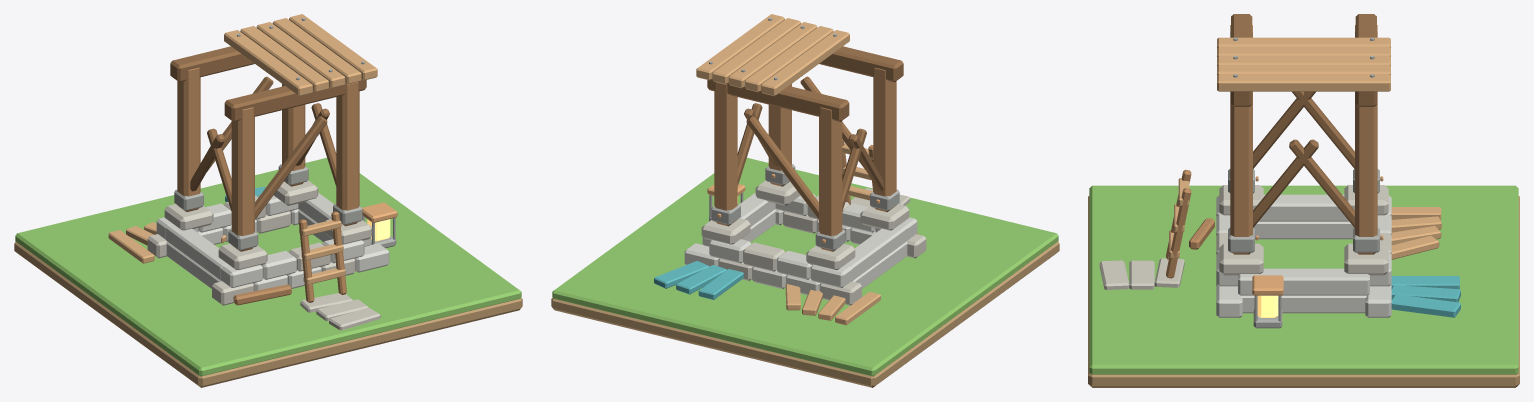
Rendered from tower_l01_damaged.glb.
3 views of the same model, side by side, from view 1: azimuth 30°, elevation 25°; view 2: azimuth 150°, elevation 25°; view 3: azimuth 270°, elevation 25° (orthographic). The views are drawn at different scales.
Visible parts, largest first — view 1: tower_l01_grass_tile, tower_l01_earth_tile, upright_-0.58_-0.52, upright_0.58_-0.52, upright_-0.58_0.52, deck_bearer_-0.52, deck_board_4, deck_bearer_0.52, plinth_return_1_-0.73, deck_board_7, deck_board_5, deck_board_6 (+30 smaller); view 2: tower_l01_grass_tile, tower_l01_earth_tile, upright_0.58_0.52, upright_-0.58_0.52, upright_-0.58_-0.52, deck_bearer_0.52, deck_board_4, deck_bearer_-0.52, plinth_return_1_-0.73, deck_board_7, deck_board_5, deck_board_6 (+27 smaller); view 3: tower_l01_grass_tile, tower_l01_earth_tile, deck_board_8, upright_0.58_0.52, upright_0.58_-0.52, plinth_return_1_0.73, plinth_return_1_-0.73, plinth_return_0_0.73, plinth_return_0_-0.73, deck_board_5, deck_board_6, deck_board_4 (+29 smaller).
Boxes of the visible parts, x1=… form: tower_l01_grass_tile: x1=15, y1=157, x2=521, y2=376; tower_l01_earth_tile: x1=14, y1=241, x2=522, y2=387; upright_-0.58_-0.52: x1=231, y1=107, x2=254, y2=251; upright_0.58_-0.52: x1=336, y1=82, x2=359, y2=226; upright_-0.58_0.52: x1=177, y1=67, x2=200, y2=211; deck_bearer_-0.52: x1=224, y1=79, x2=366, y2=121; deck_board_4: x1=224, y1=30, x2=312, y2=96; deck_bearer_0.52: x1=170, y1=46, x2=254, y2=82; plinth_return_1_-0.73: x1=165, y1=224, x2=228, y2=280; deck_board_7: x1=272, y1=18, x2=361, y2=84; deck_board_5: x1=240, y1=26, x2=328, y2=92; deck_board_6: x1=256, y1=22, x2=345, y2=88; tower_l01_grass_tile: x1=552, y1=157, x2=1058, y2=376; tower_l01_earth_tile: x1=551, y1=241, x2=1059, y2=387; upright_0.58_0.52: x1=714, y1=82, x2=737, y2=226; upright_-0.58_0.52: x1=819, y1=107, x2=842, y2=251; upright_-0.58_-0.52: x1=873, y1=67, x2=896, y2=211; deck_bearer_0.52: x1=707, y1=79, x2=849, y2=121; deck_board_4: x1=761, y1=30, x2=849, y2=96; deck_bearer_-0.52: x1=819, y1=46, x2=903, y2=82; plinth_return_1_-0.73: x1=845, y1=224, x2=908, y2=280; deck_board_7: x1=712, y1=18, x2=801, y2=84; deck_board_5: x1=745, y1=26, x2=833, y2=92; deck_board_6: x1=728, y1=22, x2=817, y2=88; tower_l01_grass_tile: x1=1089, y1=185, x2=1518, y2=374; tower_l01_earth_tile: x1=1088, y1=196, x2=1519, y2=387; deck_board_8: x1=1217, y1=74, x2=1390, y2=91; upright_0.58_0.52: x1=1355, y1=91, x2=1377, y2=254; upright_0.58_-0.52: x1=1230, y1=91, x2=1252, y2=254; plinth_return_1_0.73: x1=1238, y1=268, x2=1369, y2=295; plinth_return_1_-0.73: x1=1259, y1=194, x2=1348, y2=221; plinth_return_0_0.73: x1=1241, y1=295, x2=1366, y2=313; plinth_return_0_-0.73: x1=1253, y1=221, x2=1354, y2=239; deck_board_5: x1=1217, y1=46, x2=1390, y2=56; deck_board_6: x1=1217, y1=55, x2=1390, y2=65; deck_board_4: x1=1217, y1=37, x2=1390, y2=47.
Size of the model in its own units: 3.6 by 2.39 by 3.6.
